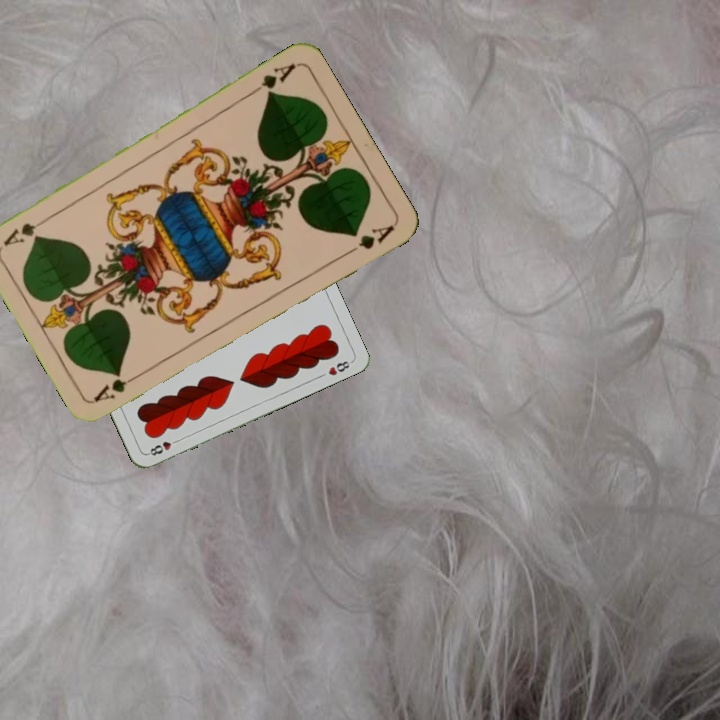GA: (246, 59, 299, 99), (90, 368, 145, 404)
H8: (144, 435, 183, 458)
